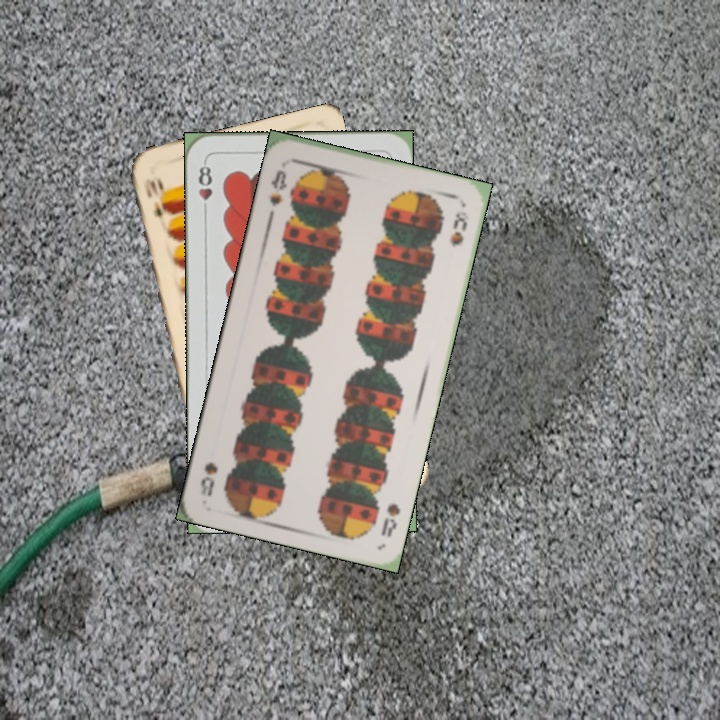E10: (140, 174, 166, 220)
H8: (195, 158, 215, 217)
S8: (376, 499, 403, 540), (265, 166, 290, 209)
